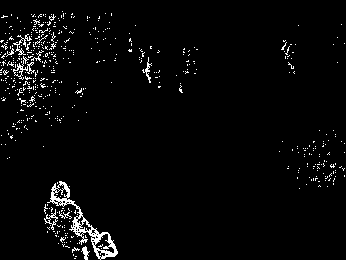person: (44, 181, 118, 258)
